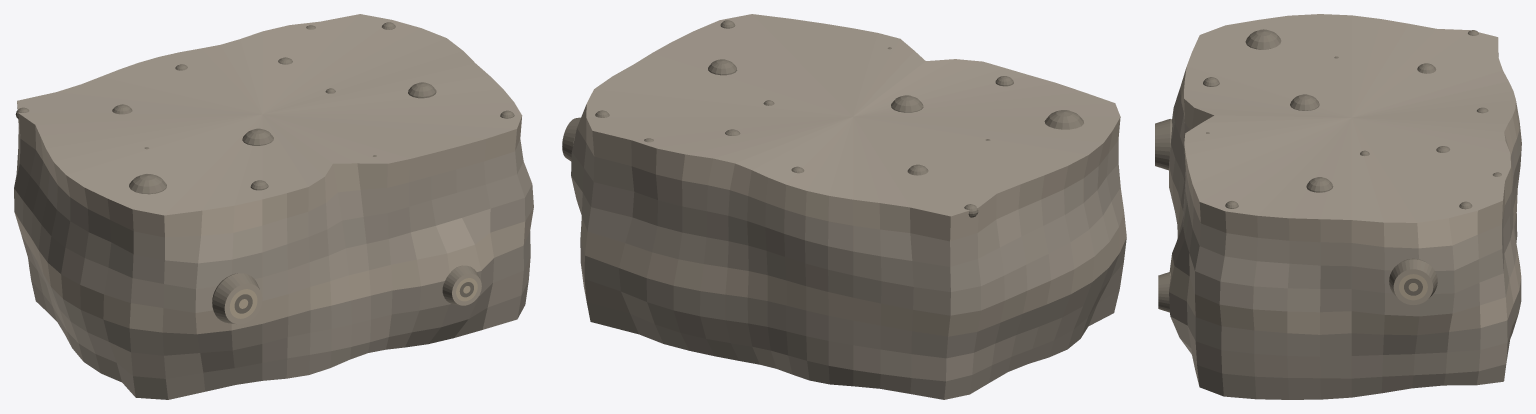
3 views of the same model, side by side, from view 1: azimuth 30°, elevation 25°; view 2: azimuth 150°, elevation 25°; view 3: azimuth 270°, elevation 25° (orthographic). The views are drawn at different scales.
Parts seen in each view (by area): view 1: continuous-layered-ash-matrix, three-volume-backed-exposed-ash-sections, embedded-rounded-ash-aggregates; view 2: continuous-layered-ash-matrix, embedded-rounded-ash-aggregates; view 3: continuous-layered-ash-matrix, three-volume-backed-exposed-ash-sections, embedded-rounded-ash-aggregates.
Boxes of the visible parts, x1,y1,x2,y2 form: continuous-layered-ash-matrix: (14,14,533,399); three-volume-backed-exposed-ash-sections: (212,265,481,324); embedded-rounded-ash-aggregates: (15,22,514,194); continuous-layered-ash-matrix: (571,14,1126,399); embedded-rounded-ash-aggregates: (595,20,1083,217); continuous-layered-ash-matrix: (1169,14,1521,399); three-volume-backed-exposed-ash-sections: (1155,119,1437,312); embedded-rounded-ash-aggregates: (1203,29,1501,209).
Size of the model in its own units: 0.2753 by 0.1156 by 0.1961.
